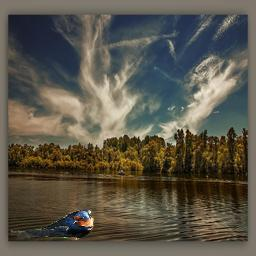Swallow: (16, 209, 94, 240)
